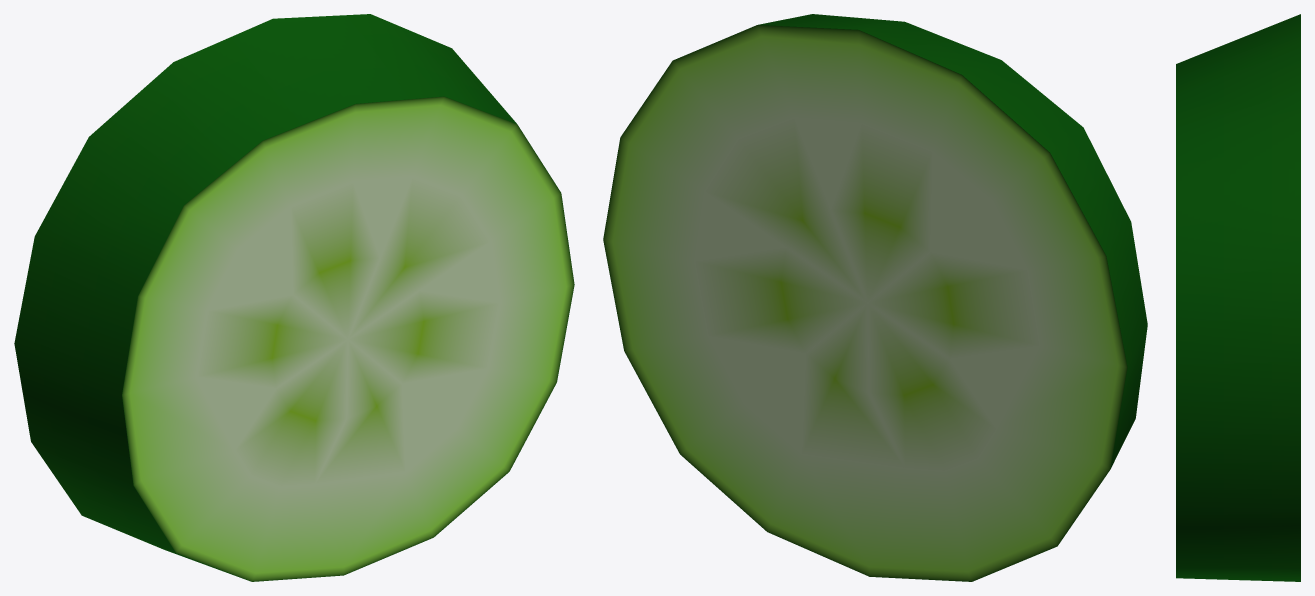
The model's file is Cucumber_Slice_02.fbx.
3 views of the same model, side by side, from view 1: azimuth 30°, elevation 25°; view 2: azimuth 150°, elevation 25°; view 3: azimuth 270°, elevation 25° (orthographic). The views are drawn at different scales.
Visible parts, largest first — view 1: Cucumber_Slice_02; view 2: Cucumber_Slice_02; view 3: Cucumber_Slice_02.
Part boxes in pixels (bbox=[...]): Cucumber_Slice_02: bbox=[14, 14, 574, 581]; Cucumber_Slice_02: bbox=[603, 14, 1147, 581]; Cucumber_Slice_02: bbox=[1176, 14, 1300, 581].
Bounding box in the file's own units: 3.98 × 3.95 × 0.8668.
